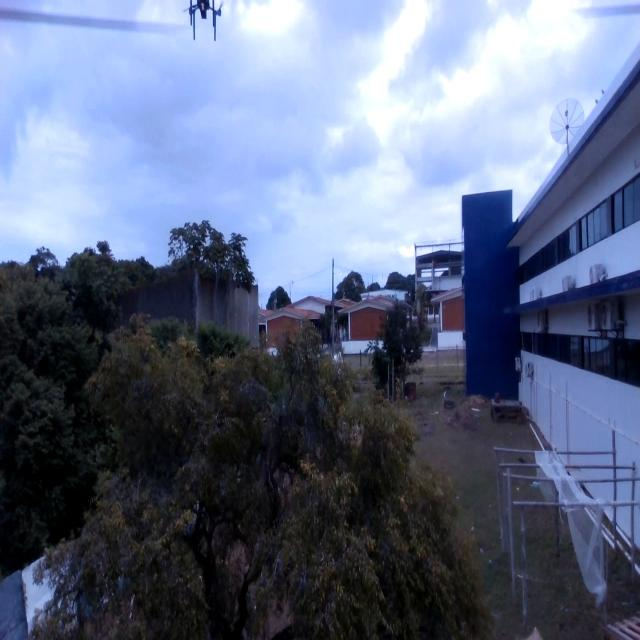-uav-: (181, 4, 223, 58)
